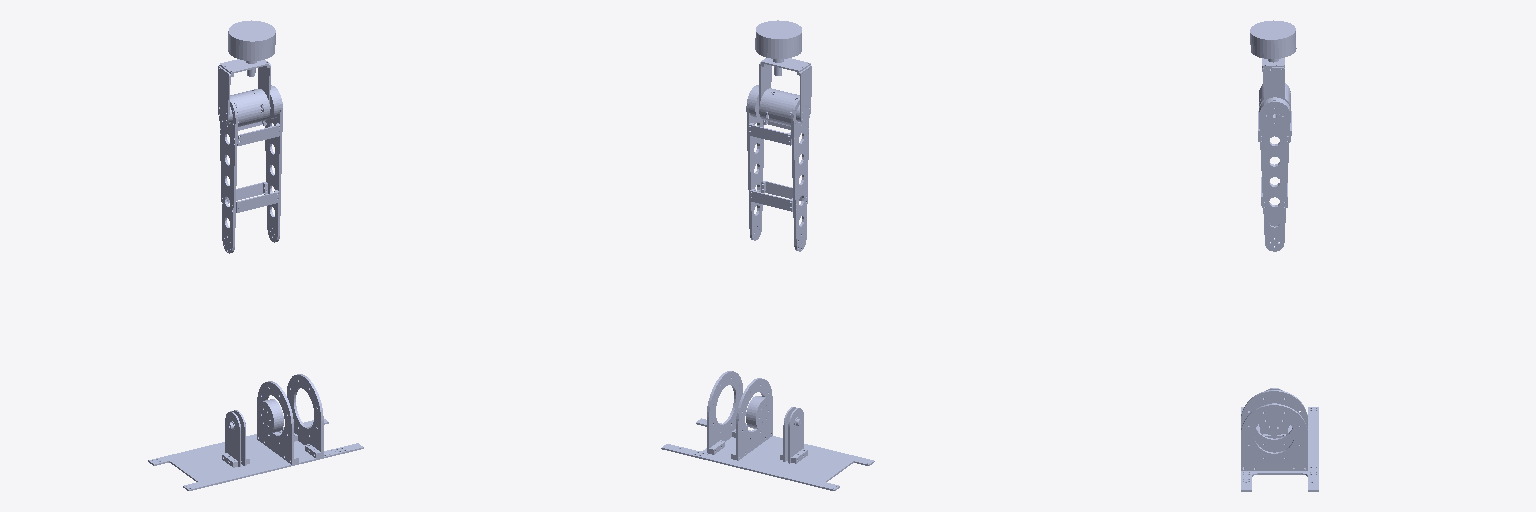
The robot description file, URDF, robot "armurdf_standard_motor":
<?xml version="1.0" encoding="utf-8"?>
<!-- This URDF was automatically created by SolidWorks to URDF Exporter! Originally created by Stephen Brawner (brawner@gmail.com) 
     Commit Version: 1.6.0-4-g7f85cfe  Build Version: 1.6.7995.38578
     For more information, please see http://wiki.ros.org/sw_urdf_exporter -->
<robot
  name="armurdf_standard_motor">
  <link
    name="base_link">
    <inertial>
      <origin
        xyz="0.06401797 0.00093364 0.06018482"
        rpy="0 0 0" />
      <mass
        value="1.19404" />
      <inertia
        ixx="0.00054518"
        ixy="-8.8651E-07"
        ixz="1.2762E-20"
        iyy="0.00099237"
        iyz="3.2702E-08"
        izz="0.0011813" />
    </inertial>
    <visual>
      <origin
        xyz="0 0 0"
        rpy="0 0 0" />
      <geometry>
        <mesh
          filename="package://armurdf_standard_motor/meshes/base_link.STL" />
      </geometry>
      <material
        name="">
        <color
          rgba="0.79216 0.81961 0.93333 1" />
      </material>
    </visual>
    <collision>
      <origin
        xyz="0 0 0"
        rpy="0 0 0" />
      <geometry>
        <mesh
          filename="package://armurdf_standard_motor/meshes/base_link.STL" />
      </geometry>
    </collision>
  </link>
  <link
    name="Link1">
    <inertial>
      <origin
        xyz="-0.00047343 0.28954791 0.0005662"
        rpy="0 0 0" />
      <mass
        value="0.54717" />
      <inertia
        ixx="0.0023759"
        ixy="3.3021E-06"
        ixz="-3.9537E-21"
        iyy="6.4486E-05"
        iyz="-5.53E-19"
        izz="0.0024336" />
    </inertial>
    <visual>
      <origin
        xyz="0 0 0"
        rpy="0 0 0" />
      <geometry>
        <mesh
          filename="package://armurdf_standard_motor/meshes/Link1.STL" />
      </geometry>
      <material
        name="">
        <color
          rgba="1 1 1 1" />
      </material>
    </visual>
    <collision>
      <origin
        xyz="0 0 0"
        rpy="0 0 0" />
      <geometry>
        <mesh
          filename="package://armurdf_standard_motor/meshes/Link1.STL" />
      </geometry>
    </collision>
  </link>
  <joint
    name="j1"
    type="revolute">
    <origin
      xyz="0 0 0.07"
      rpy="1.5708 0 -1.5708" />
    <parent
      link="base_link" />
    <child
      link="Link1" />
    <axis
      xyz="0 0 -1" />
    <limit
      lower="-1.57"
      upper="1.57"
      effort="30"
      velocity="3.14" />
  </joint>
  <link
    name="Link2">
    <inertial>
      <origin
        xyz="-0.0003464 0.2219719 0.00658453"
        rpy="0 0 0" />
      <mass
        value="0.5273" />
      <inertia
        ixx="0.00075992"
        ixy="1.0161E-06"
        ixz="4.134E-20"
        iyy="4.9865E-05"
        iyz="5.7918E-19"
        izz="0.00078302" />
    </inertial>
    <visual>
      <origin
        xyz="0 0 0"
        rpy="0 0 0" />
      <geometry>
        <mesh
          filename="package://armurdf_standard_motor/meshes/Link2.STL" />
      </geometry>
      <material
        name="">
        <color
          rgba="0.79216 0.81961 0.93333 0.25" />
      </material>
    </visual>
    <collision>
      <origin
        xyz="0 0 0"
        rpy="0 0 0" />
      <geometry>
        <mesh
          filename="package://armurdf_standard_motor/meshes/Link2.STL" />
      </geometry>
    </collision>
  </link>
  <joint
    name="j2"
    type="revolute">
    <origin
      xyz="-0.0005 0.35 0"
      rpy="0 0 0" />
    <parent
      link="Link1" />
    <child
      link="Link2" />
    <axis
      xyz="0 0 -1" />
    <limit
      lower="-2.32"
      upper="2.32"
      effort="10"
      velocity="3.14" />
  </joint>
  <link
    name="Link3">
    <inertial>
      <origin
        xyz="0.002693 0.11635 0.0019852"
        rpy="0 0 0" />
      <mass
        value="0.24563" />
      <inertia
        ixx="0.00013404"
        ixy="1.2628E-06"
        ixz="6.3612E-09"
        iyy="0.0001778"
        iyz="-1.8653E-10"
        izz="0.00013348" />
    </inertial>
    <visual>
      <origin
        xyz="0 0 0"
        rpy="0 0 0" />
      <geometry>
        <mesh
          filename="package://armurdf_standard_motor/meshes/Link3.STL" />
      </geometry>
      <material
        name="">
        <color
          rgba="0.79216 0.81961 0.93333 1" />
      </material>
    </visual>
    <collision>
      <origin
        xyz="0 0 0"
        rpy="0 0 0" />
      <geometry>
        <mesh
          filename="package://armurdf_standard_motor/meshes/Link3.STL" />
      </geometry>
    </collision>
  </link>
  <joint
    name="j3"
    type="revolute">
    <origin
      xyz="-0.000357142857063231 0.24999974489785 -0.00262500000000032"
      rpy="0 0 0" />
    <parent
      link="Link2" />
    <child
      link="Link3" />
    <axis
      xyz="0 0 -1" />
    <limit
      lower="-1.95"
      upper="1.95"
      effort="10"
      velocity="3.14" />
  </joint>
  <link
    name="tool_Link">
    <inertial>
      <origin
        xyz="0 0 0"
        rpy="0 0 0" />
      <mass
        value="0.0001" />
      <inertia
        ixx="1E-06"
        ixy="1E-06"
        ixz="0"
        iyy="1E-06"
        iyz="0"
        izz="0" />
    </inertial>
    <visual>
      <origin
        xyz="0 0 0"
        rpy="0 0 0" />
      <geometry>
        <mesh
          filename="package://armurdf_standard_motor/meshes/tool_Link.STL" />
      </geometry>
      <material
        name="">
        <color
          rgba="1 1 1 1" />
      </material>
    </visual>
    <collision>
      <origin
        xyz="0 0 0"
        rpy="0 0 0" />
      <geometry>
        <mesh
          filename="package://armurdf_standard_motor/meshes/tool_Link.STL" />
      </geometry>
    </collision>
  </link>
  <joint
    name="j_tool"
    type="fixed">
    <origin
      xyz="0.0034791 0.14696 -2.5E-05"
      rpy="0 0 0" />
    <parent
      link="Link3" />
    <child
      link="tool_Link" />
    <axis
      xyz="0 0 0" />
  </joint>
</robot>

--- Facts derived from the render (not from the file) ---
The picture shows the robot from 3 angles, left to right: view 1: azimuth 30°, elevation 25°; view 2: azimuth 150°, elevation 25°; view 3: azimuth 270°, elevation 25°; orthographic projection.
Robot: armurdf_standard_motor — 5 links, 4 joints (3 revolute, 1 fixed); root link base_link; default pose: all joints at 0.
Visible links, largest first — view 1: base_link, Link2, Link3; view 2: base_link, Link2, Link3; view 3: base_link, Link2, Link3.
Link boxes in pixels (x1,y1,x2,y2): base_link: [148, 374, 363, 490]; Link2: [219, 85, 282, 253]; Link3: [218, 20, 275, 123]; base_link: [661, 371, 874, 490]; Link2: [746, 85, 808, 251]; Link3: [755, 20, 811, 122]; base_link: [1241, 388, 1318, 491]; Link2: [1258, 83, 1291, 251]; Link3: [1250, 20, 1296, 100].
Bounding box of the posed robot: 0.35 × 0.14 × 0.8212 m (x, y, z).
3 mesh visuals loaded from 5 distinct referenced files (3 binary STL); not drawn: 2 (reference not matched to a file when rendering).
